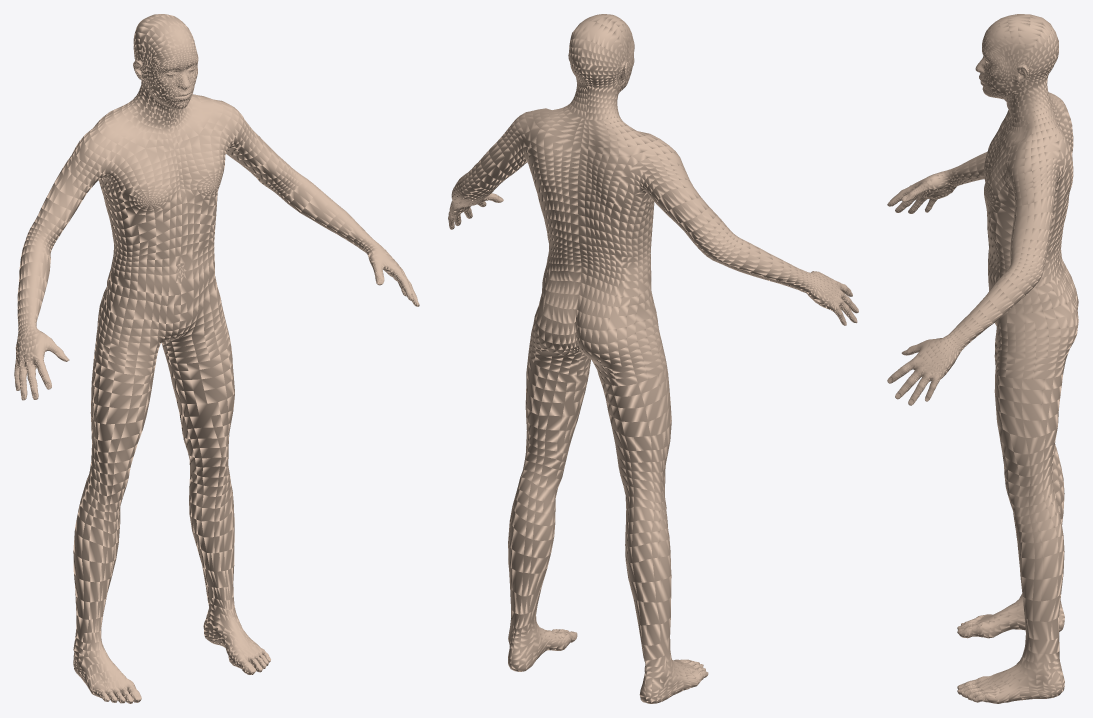
Rendered from male_high_medium.glb.
The picture shows the model from 3 angles, left to right: view 1: azimuth 30°, elevation 25°; view 2: azimuth 150°, elevation 25°; view 3: azimuth 270°, elevation 25°; orthographic projection.
Visible parts, largest first — view 1: male_high_mediumMesh; view 2: male_high_mediumMesh; view 3: male_high_mediumMesh.
Boxes of the visible parts, box(x1,y1,x2,y2) form: male_high_mediumMesh: box(14, 14, 419, 703); male_high_mediumMesh: box(448, 14, 858, 703); male_high_mediumMesh: box(887, 14, 1078, 703).
Bounding box in the file's own units: 14.37 × 22.49 × 6.02.
